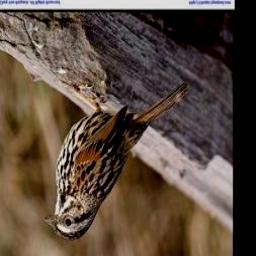Sparrow: (42, 77, 190, 242)
